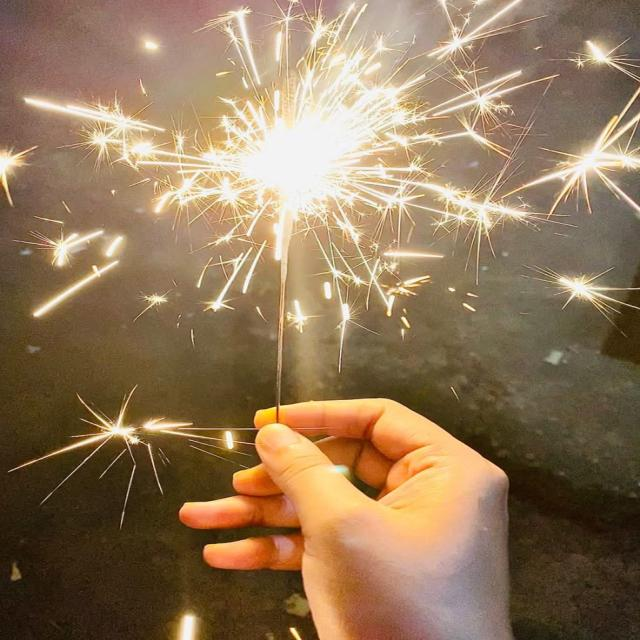fire: (198, 119, 377, 260)
